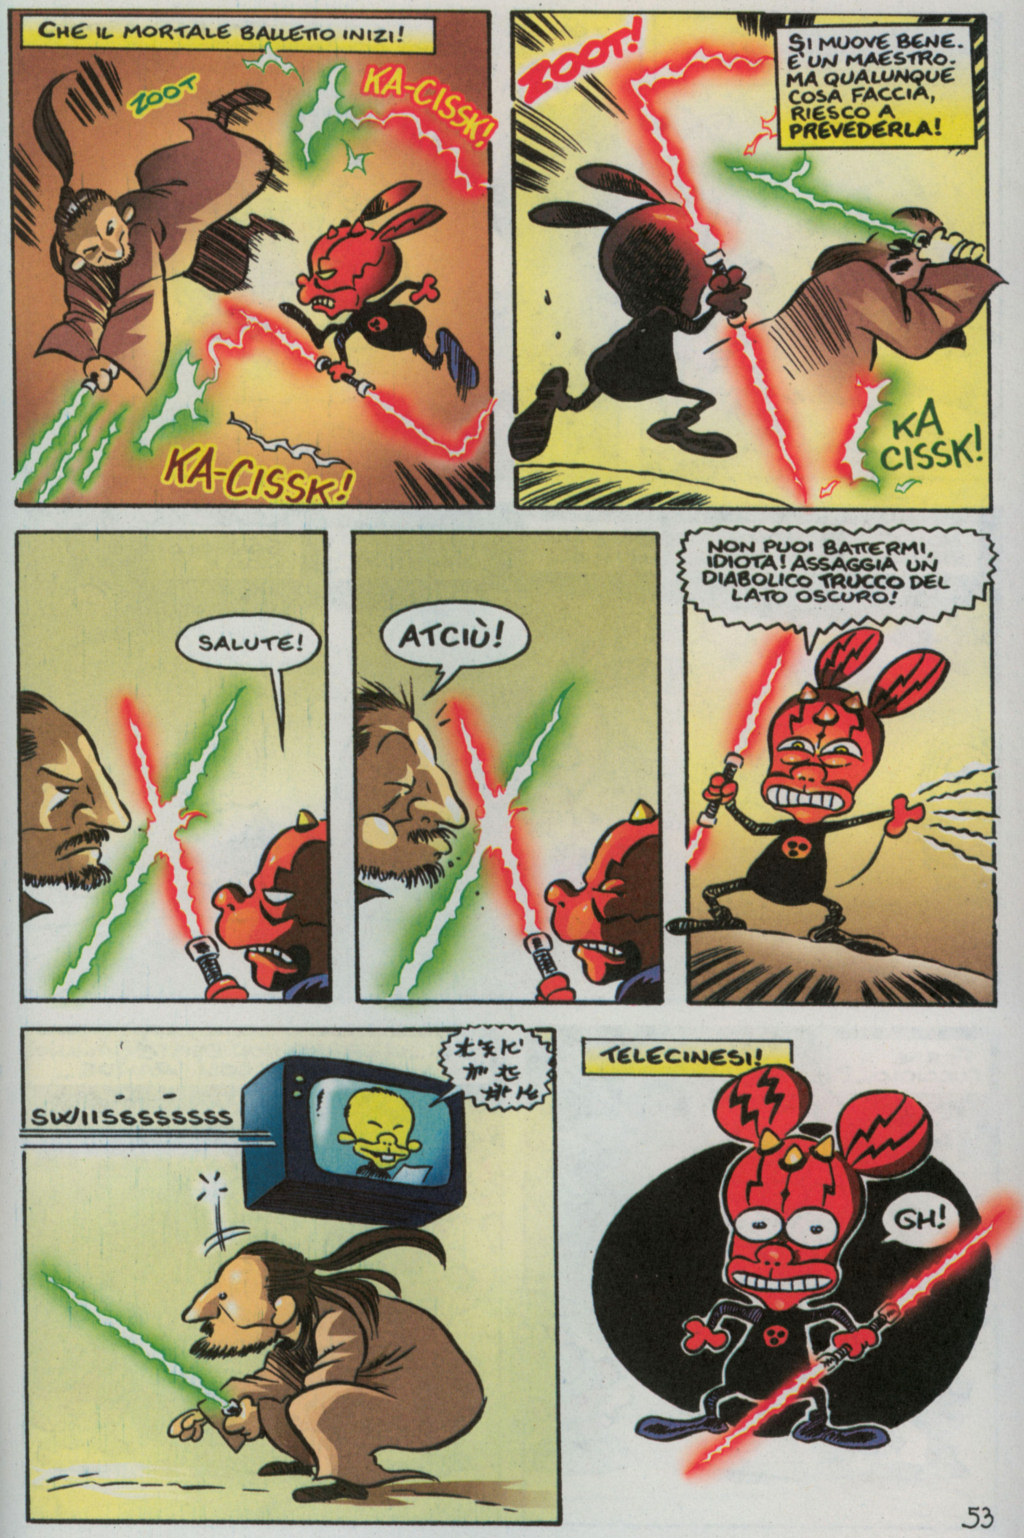Baloon: (674, 520, 997, 646), (778, 22, 978, 152), (22, 15, 439, 59), (178, 612, 322, 736), (422, 1015, 560, 1127), (376, 601, 536, 684), (585, 1041, 794, 1080), (883, 1187, 969, 1255)
Vignetta: (18, 1030, 553, 1522), (511, 6, 1008, 511), (11, 15, 494, 506), (574, 1027, 1015, 1490), (355, 534, 667, 1004), (18, 532, 331, 999), (681, 543, 994, 1008)
